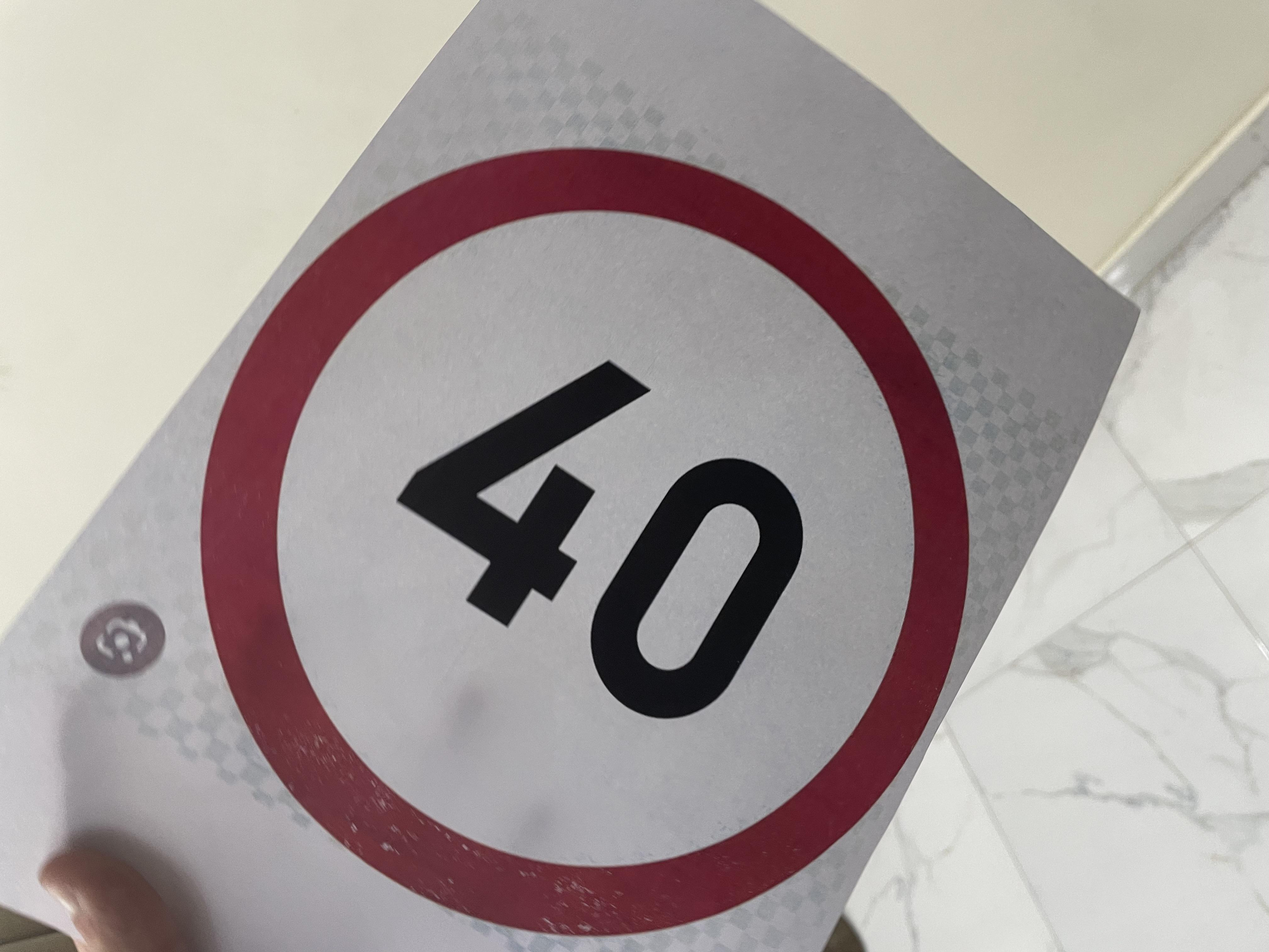40-Speed: (30, 156, 1033, 730)
